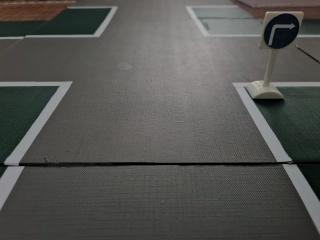right: (257, 9, 303, 51)
